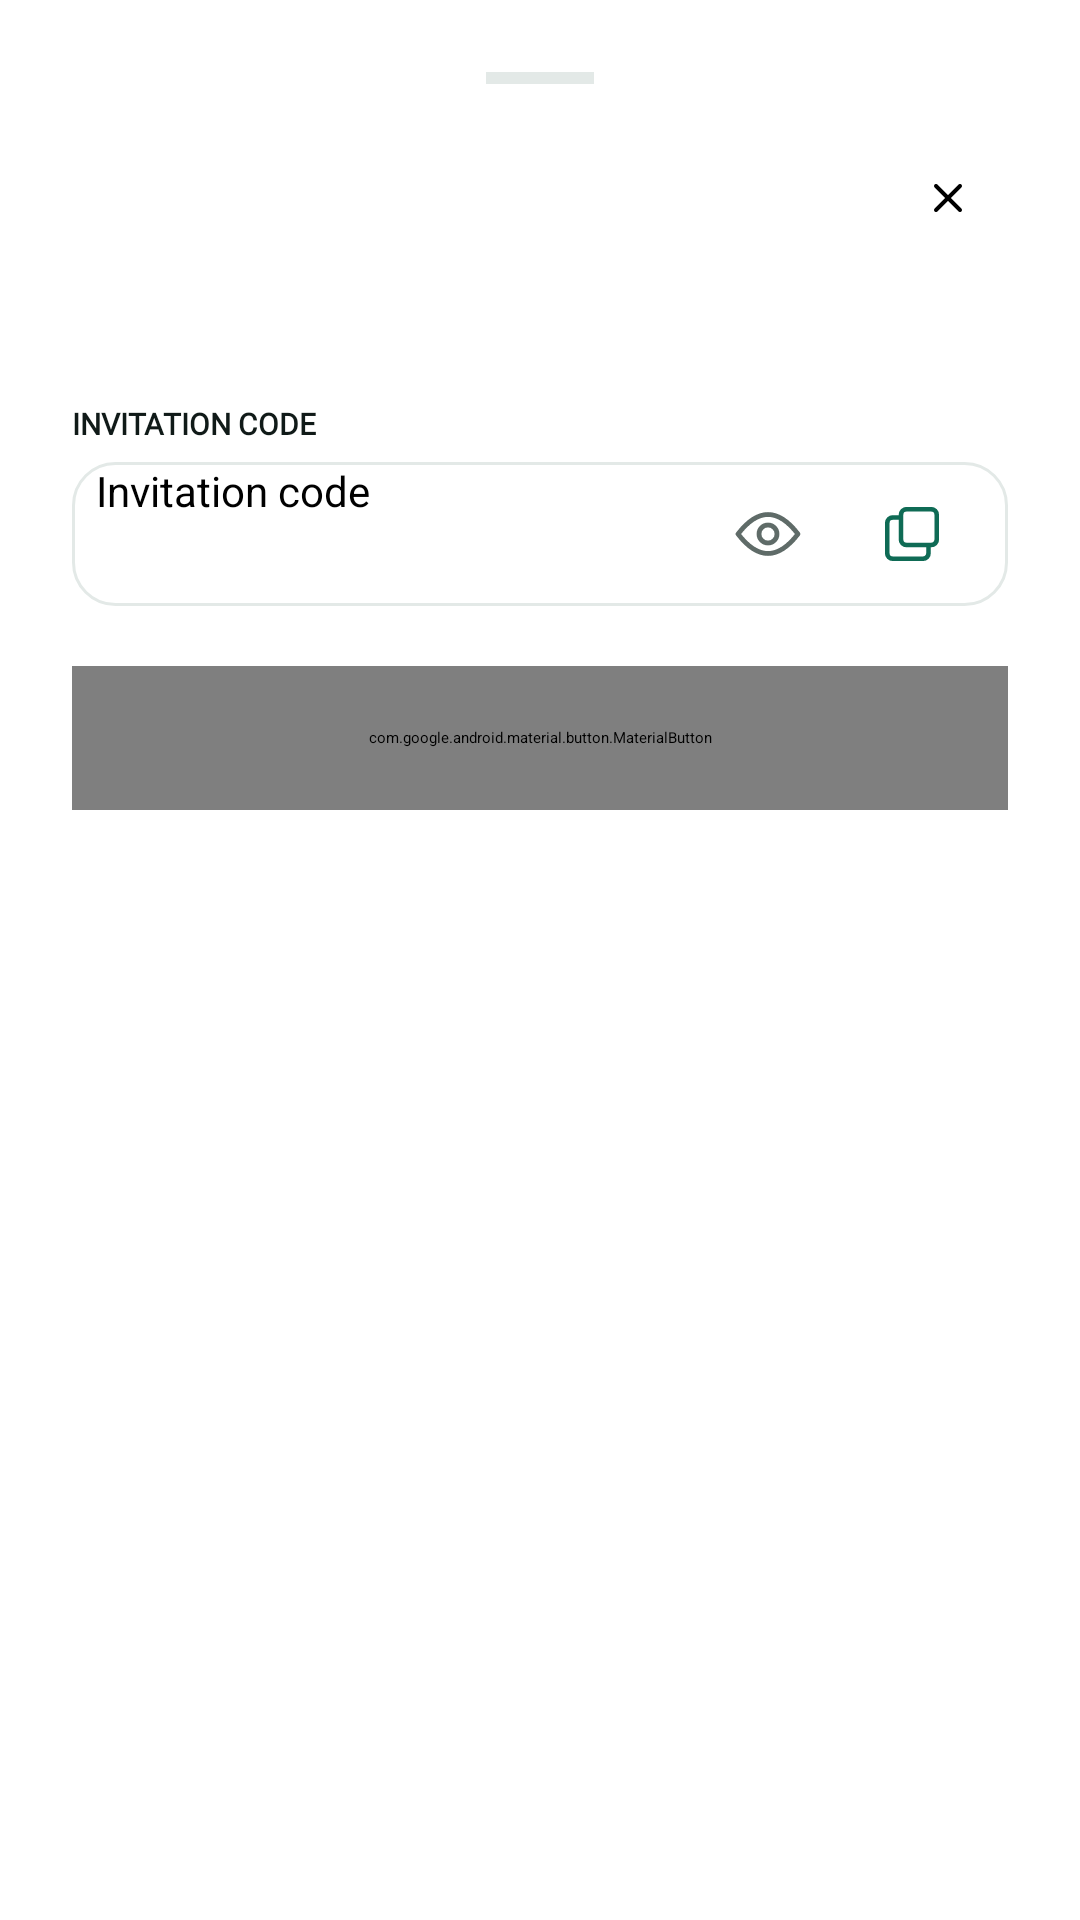

Screen size 1080px×1920px. Icon name, then its box in pixels as {"x1": x1, "y1": y1, "x2": x2, "y2": y2}:
Close: {"x1": 934, "y1": 184, "x2": 962, "y2": 212}
